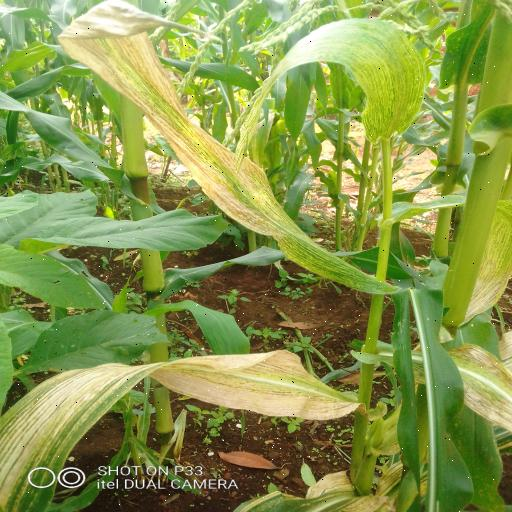Corn_Streak: (57, 0, 395, 319), (5, 354, 352, 488)
